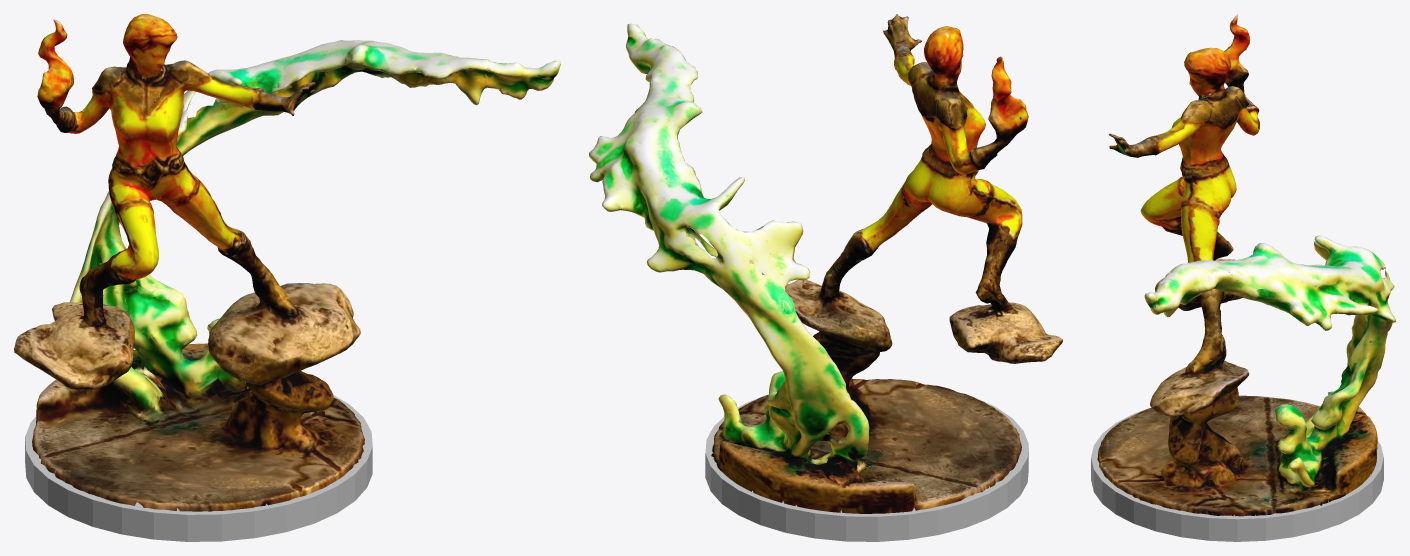
3 views of the same model, side by side, from view 1: azimuth 30°, elevation 25°; view 2: azimuth 150°, elevation 25°; view 3: azimuth 270°, elevation 25° (orthographic). The views are drawn at different scales.
Visible parts, largest first — view 1: crystal, default; view 2: crystal, default; view 3: crystal, default.
Part boxes in pixels (<box>): crystal: <box>14,14,560,511</box>; default: <box>25,395,372,541</box>; crystal: <box>589,14,1062,513</box>; default: <box>705,394,1028,541</box>; crystal: <box>1097,14,1395,516</box>; default: <box>1091,396,1383,541</box>.
Size of the model in its own units: 2.27 by 2.11 by 1.43.
Materials: 2 (1 with a texture image).
